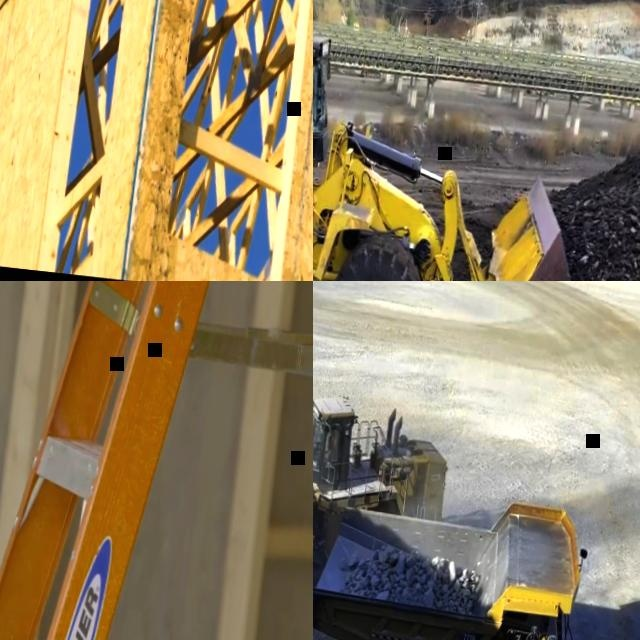machinery: (313, 4, 604, 281), (313, 473, 604, 640), (313, 372, 461, 640)
